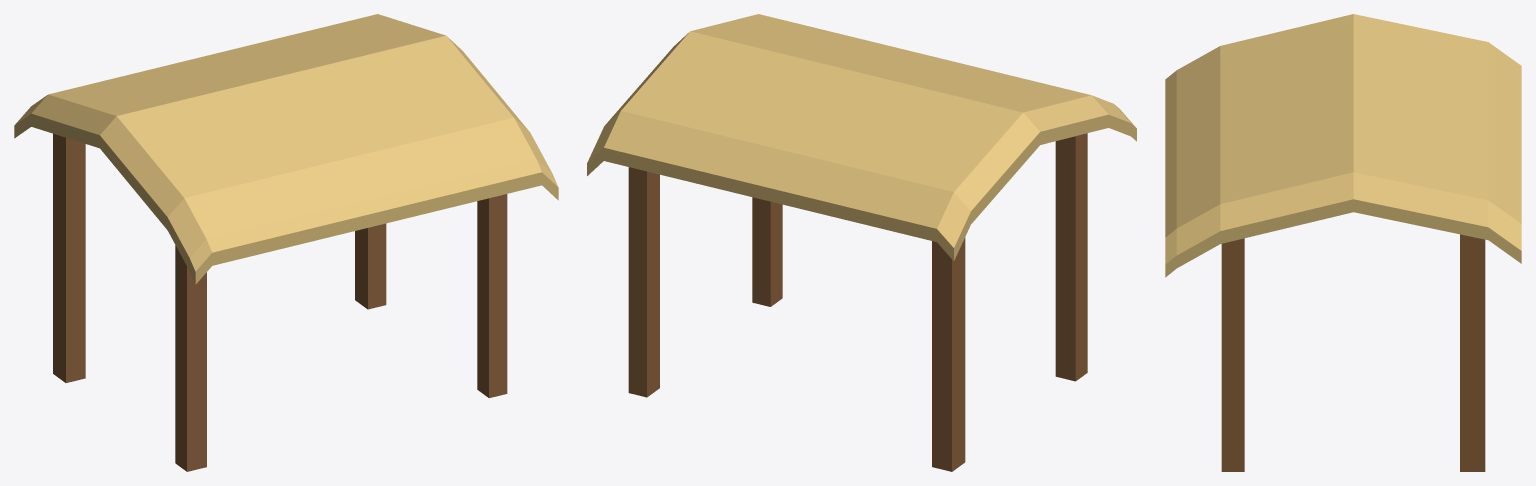
Rendered from puestico1.fbx.
3 renders of one model, left to right at view 1: azimuth 30°, elevation 25°; view 2: azimuth 150°, elevation 25°; view 3: azimuth 270°, elevation 25°, orthographic. The views are drawn at different scales.
Visible parts, largest first — view 1: Cube.001, Cube; view 2: Cube.001, Cube; view 3: Cube.001, Cube.
Boxes of the visible parts, x1,y1,x2,y2 form: Cube.001: (14, 14, 558, 284); Cube: (53, 133, 507, 471); Cube.001: (587, 14, 1136, 260); Cube: (628, 133, 1087, 471); Cube.001: (1165, 14, 1521, 277); Cube: (1221, 234, 1485, 471).
Size of the model in its own units: 7.7 by 6.24 by 6.66.
